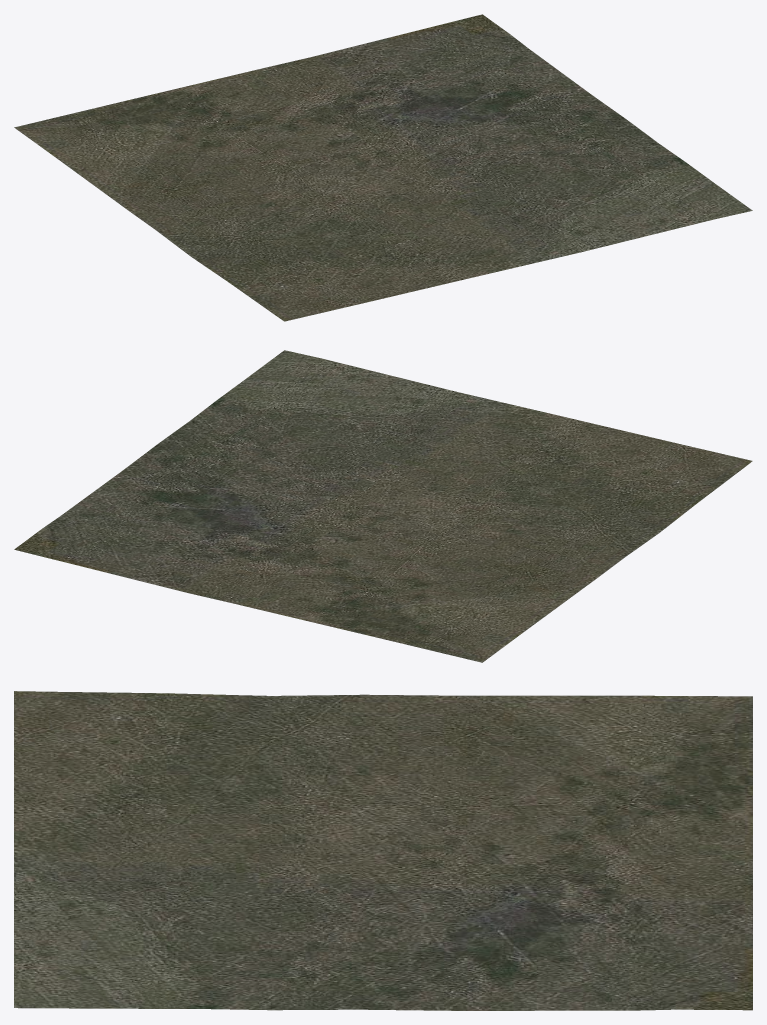
The model's file is map_15_8184_13781.dae.
The picture shows the model from 3 angles, top to bottom: view 1: azimuth 30°, elevation 25°; view 2: azimuth 150°, elevation 25°; view 3: azimuth 270°, elevation 25°; orthographic projection. The views are drawn at different scales.
Visible parts, largest first — view 1: Ter0; view 2: Ter0; view 3: Ter0.
Part boxes in pixels (bbox=[...]): Ter0: bbox=[14, 14, 752, 321]; Ter0: bbox=[14, 350, 752, 662]; Ter0: bbox=[14, 691, 752, 1010].
Size of the model in its own units: 63.88 by 63.88 by 0.775.
3 materials, 3 textured.
